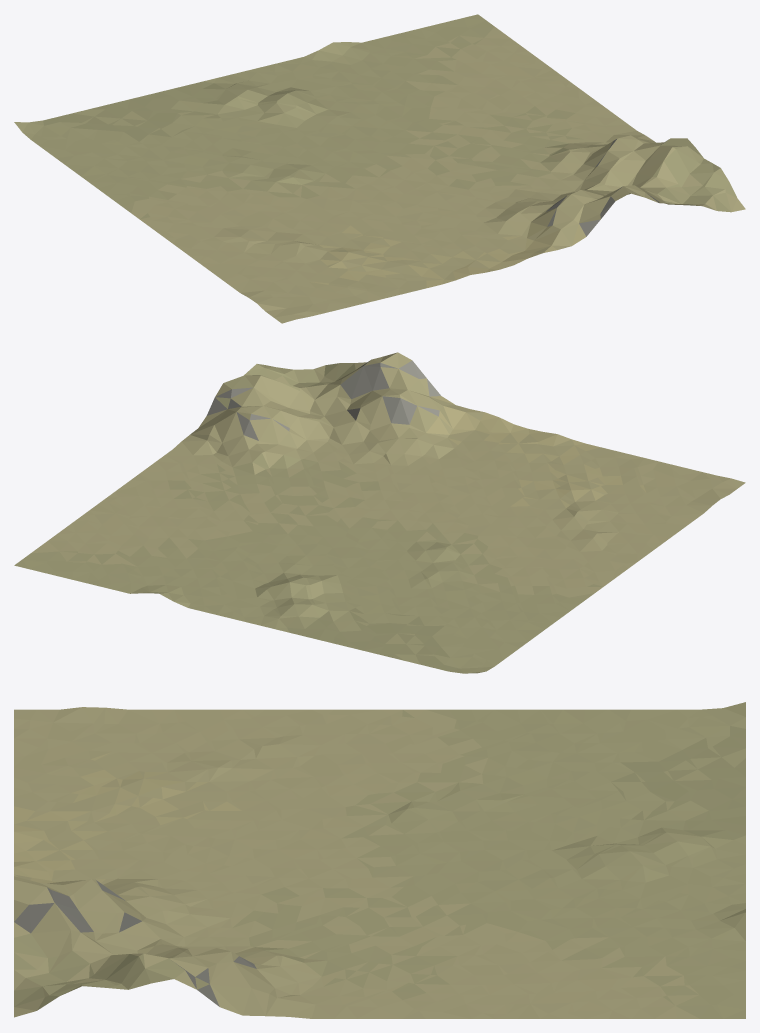
File: Ground_-1_4.glb
3 renders of one model, top to bottom at view 1: azimuth 30°, elevation 25°; view 2: azimuth 150°, elevation 25°; view 3: azimuth 270°, elevation 25°, orthographic. The views are drawn at different scales.
Parts seen in each view (by area): view 1: Ground_-1_4; view 2: Ground_-1_4; view 3: Ground_-1_4.
Part boxes in pixels (<box>): Ground_-1_4: <box>14,14,745,323</box>; Ground_-1_4: <box>14,352,745,673</box>; Ground_-1_4: <box>14,702,745,1018</box>.
Size of the model in its own units: 768 by 71.78 by 768.
